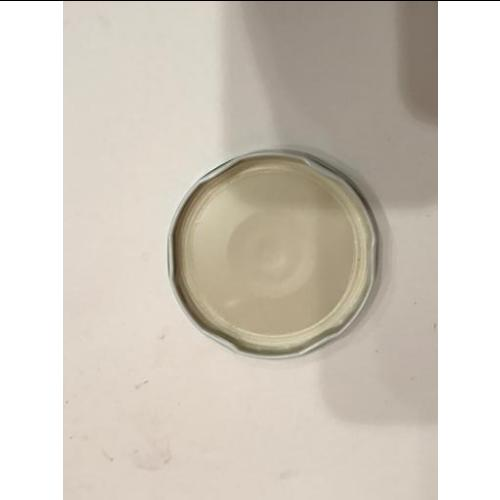metal: (169, 152, 381, 359)
